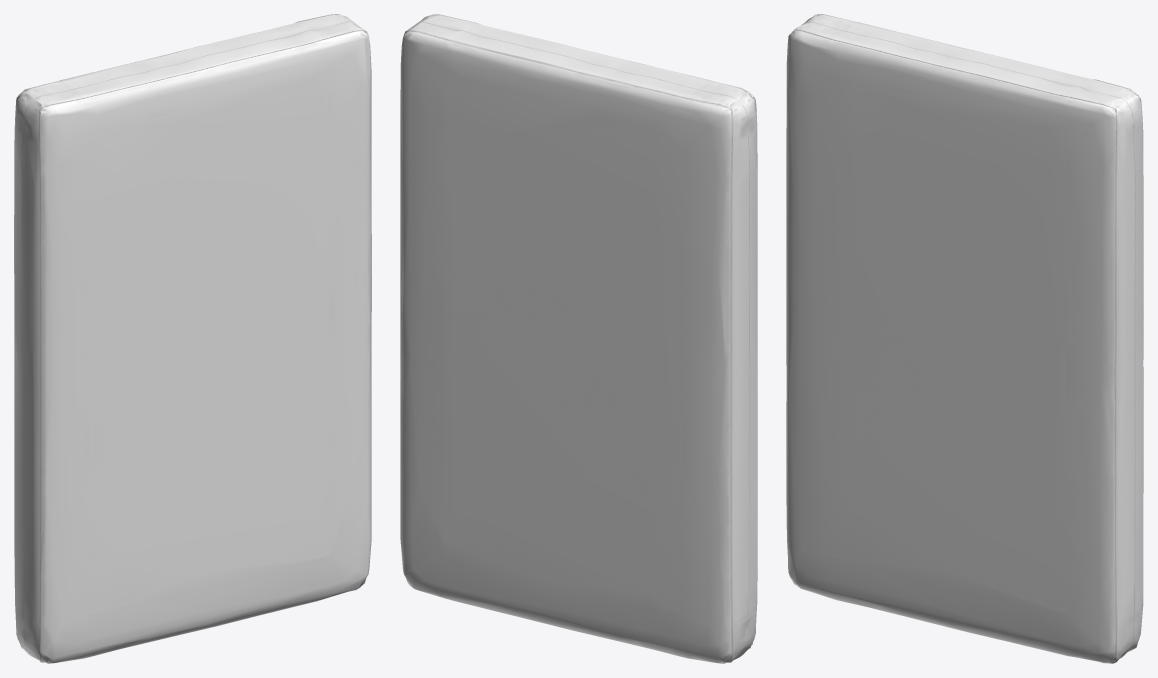
The model's file is BedMattress_16_BedMattress_16_1.obj.
3 renders of one model, left to right at view 1: azimuth 30°, elevation 25°; view 2: azimuth 150°, elevation 25°; view 3: azimuth 330°, elevation 25°, orthographic.
Visible parts, largest first — view 1: BedMattress_16; view 2: BedMattress_16; view 3: BedMattress_16.
Part boxes in pixels (bbox=[...]): BedMattress_16: bbox=[14, 14, 371, 663]; BedMattress_16: bbox=[400, 14, 757, 663]; BedMattress_16: bbox=[786, 14, 1143, 663].
Bounding box in the file's own units: 1.43 × 2.26 × 0.2539.
